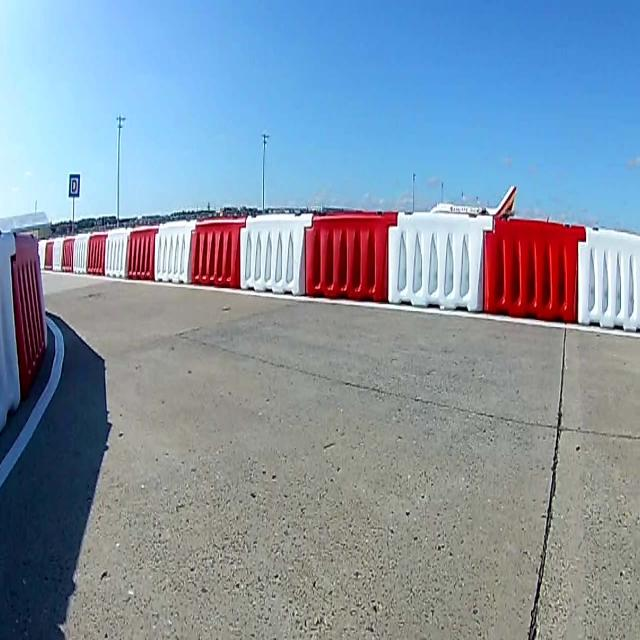durak: (69, 175, 79, 198)
